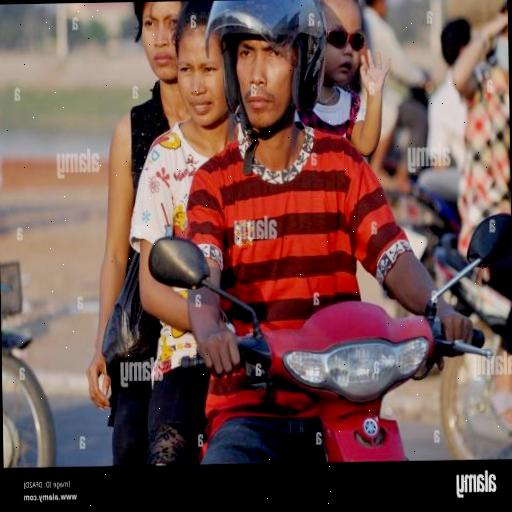helmet: (210, 8, 330, 166)
triple riding: (79, 0, 496, 466)
